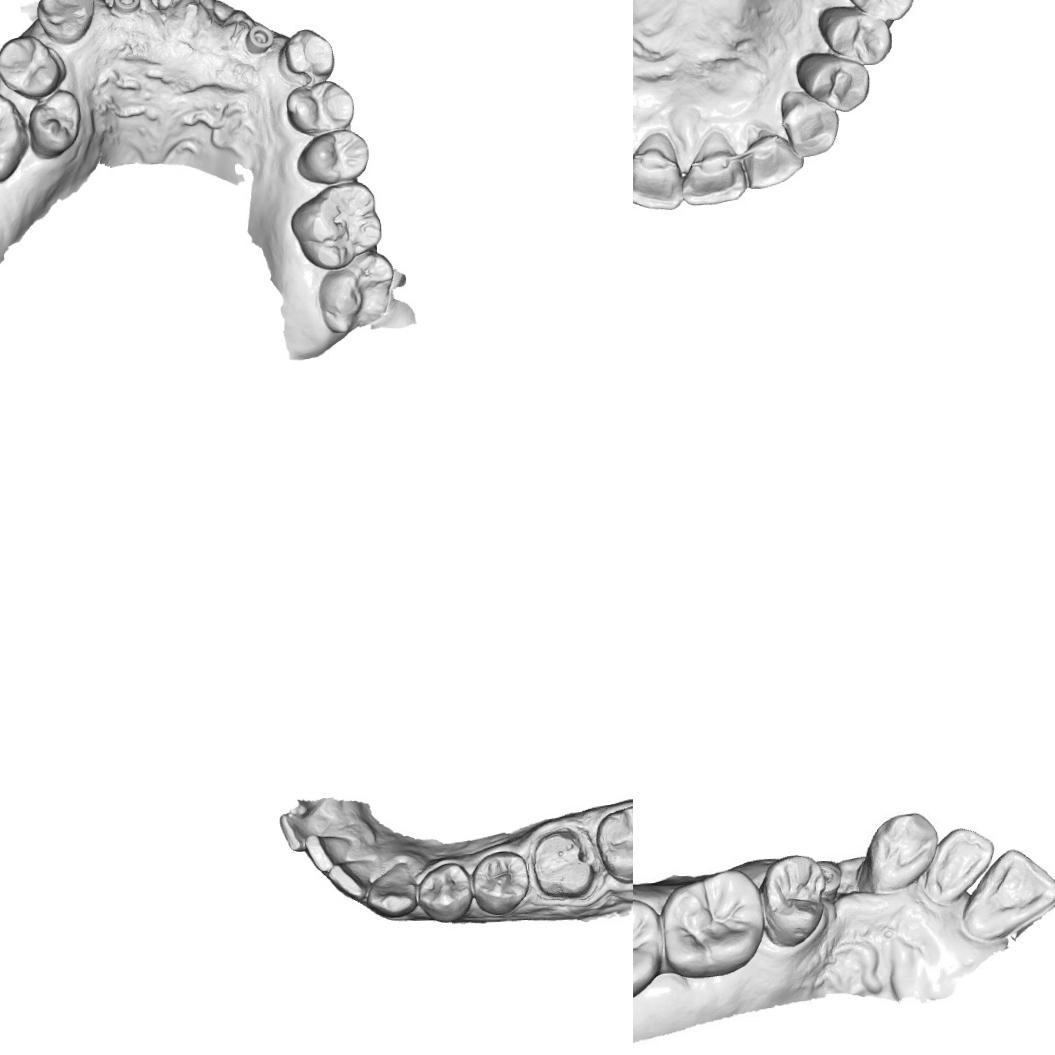canine: (853, 808, 943, 898), (783, 92, 836, 156), (366, 860, 420, 919), (280, 27, 336, 81), (34, 0, 97, 47)
crown: (528, 826, 600, 904)
implant: (238, 23, 280, 56), (113, 0, 142, 16)
incisor: (957, 844, 1055, 947), (681, 124, 752, 217), (920, 824, 999, 907), (633, 124, 692, 219), (745, 122, 806, 186), (324, 858, 374, 901), (303, 832, 352, 874), (278, 810, 326, 852)
molar: (663, 871, 761, 982), (288, 180, 384, 273), (314, 252, 398, 340), (633, 899, 664, 1009), (593, 802, 633, 886), (0, 84, 32, 187)
premolar: (761, 848, 832, 943), (796, 51, 872, 116), (0, 33, 67, 102), (819, 4, 895, 64), (295, 128, 371, 187), (283, 78, 358, 136), (25, 88, 84, 161), (471, 848, 532, 916), (415, 861, 475, 924)
